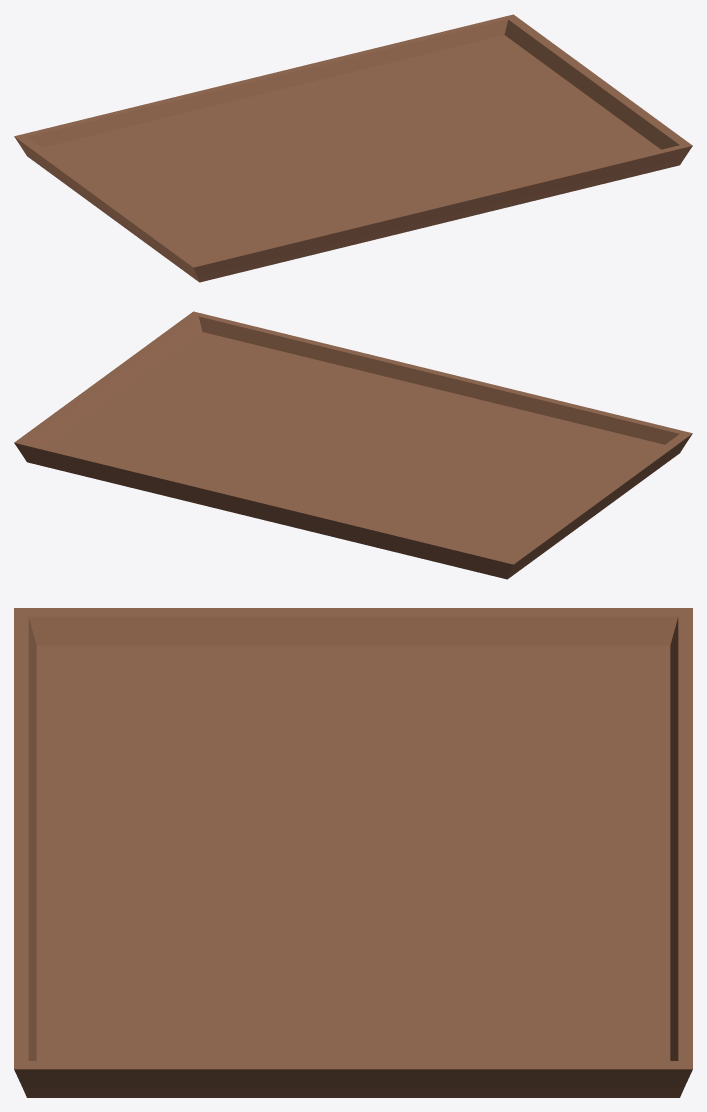
The model's file is m_bakingtray.fbx.
The picture shows the model from 3 angles, top to bottom: view 1: azimuth 30°, elevation 25°; view 2: azimuth 150°, elevation 25°; view 3: azimuth 270°, elevation 25°; orthographic projection. The views are drawn at different scales.
Parts seen in each view (by area): view 1: baking tray; view 2: baking tray; view 3: baking tray.
Boxes of the visible parts, <box> form: baking tray: <box>14,14,692,282</box>; baking tray: <box>14,311,692,579</box>; baking tray: <box>14,608,692,1097</box>.
Size of the model in its own units: 53.57 by 2.02 by 33.33.
